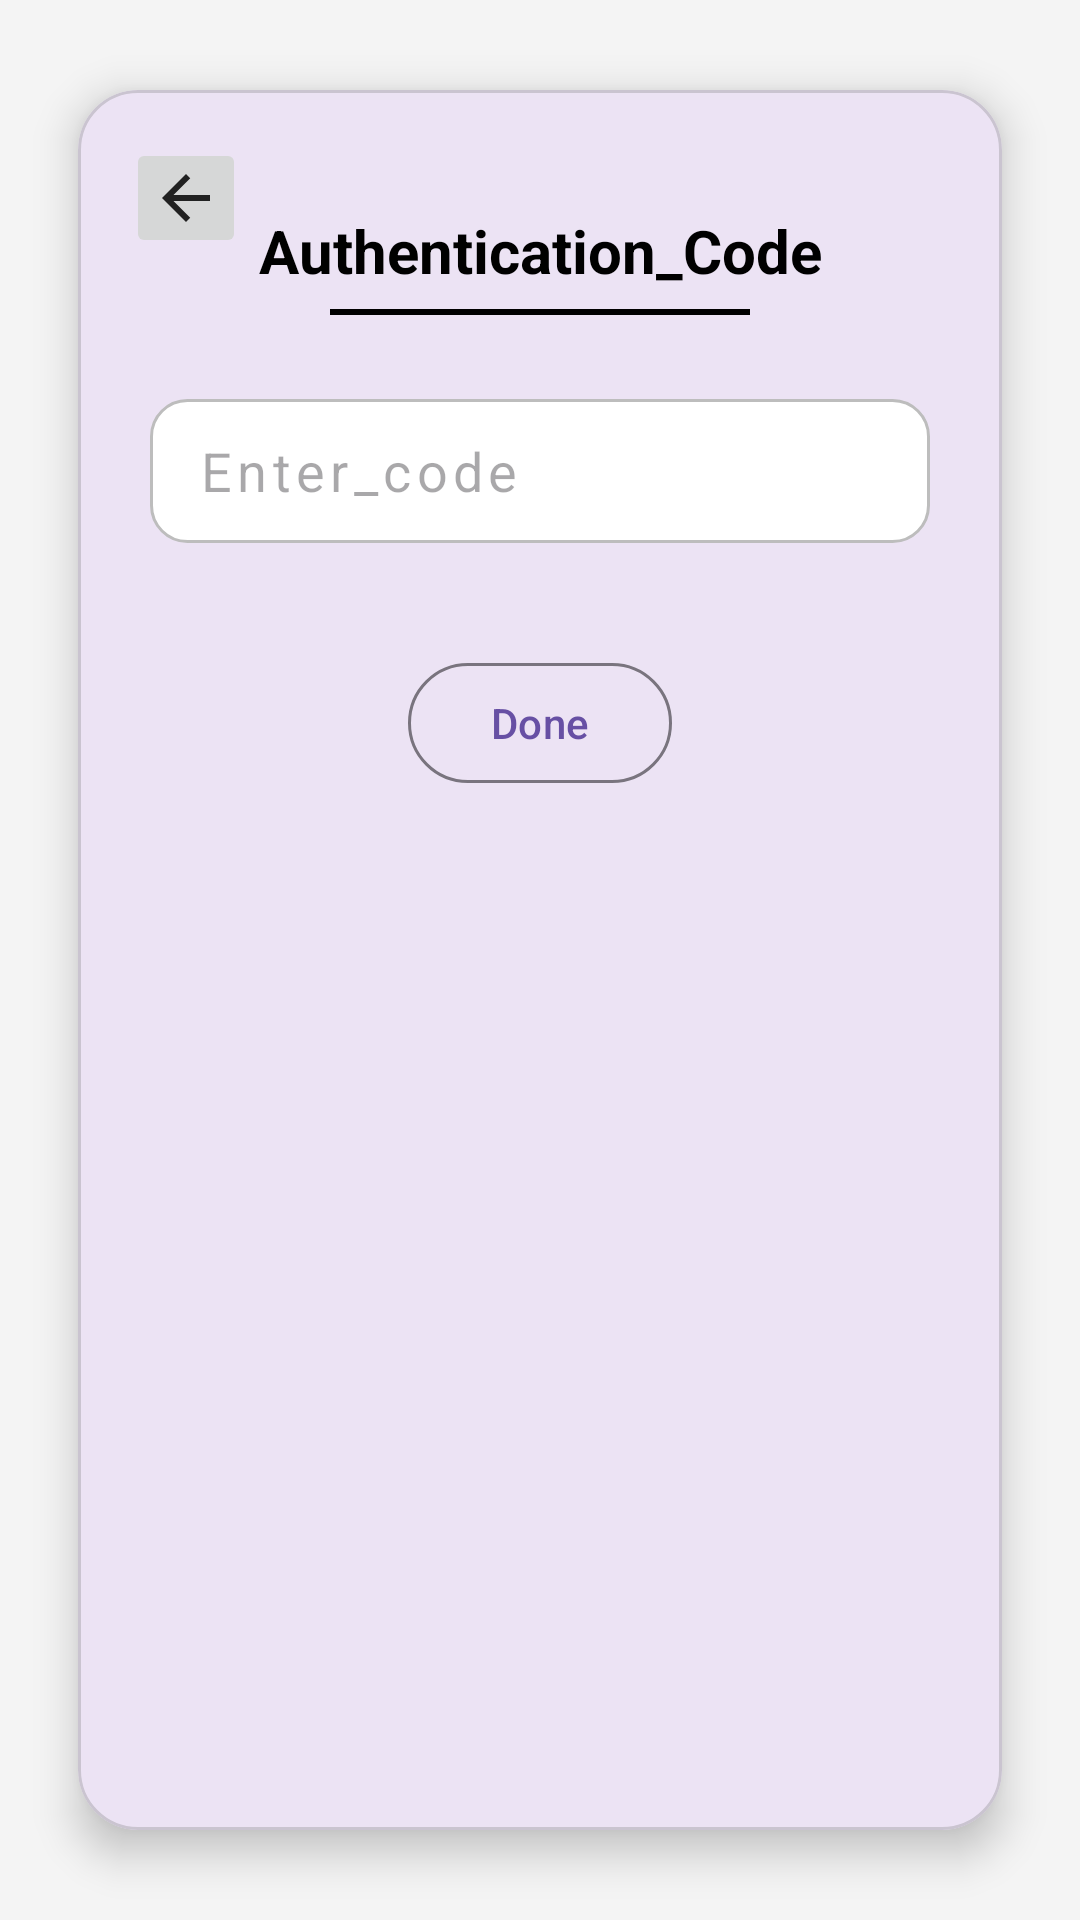

Icons on this 1080*1920 Android screen, each with the point to tap as [x,y]:
back: [186,198]
